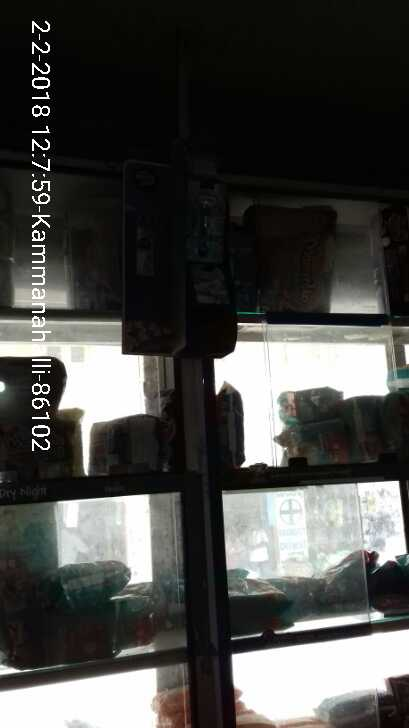reject: (139, 332, 198, 385)
